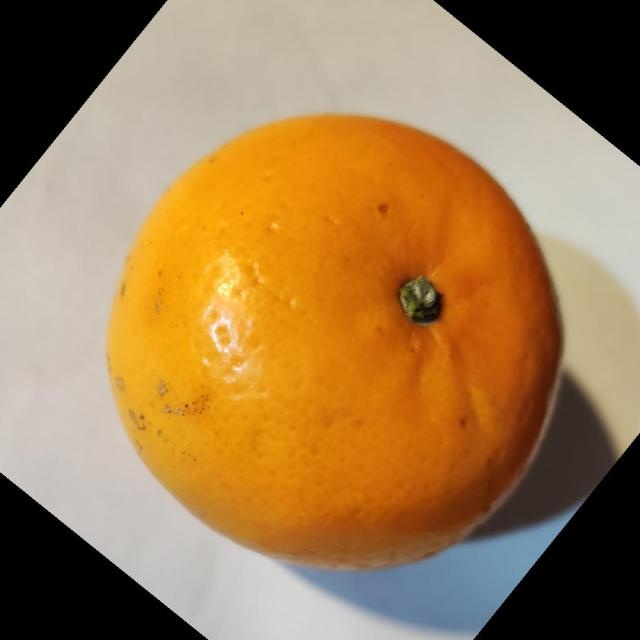agrume: (105, 111, 563, 572)
